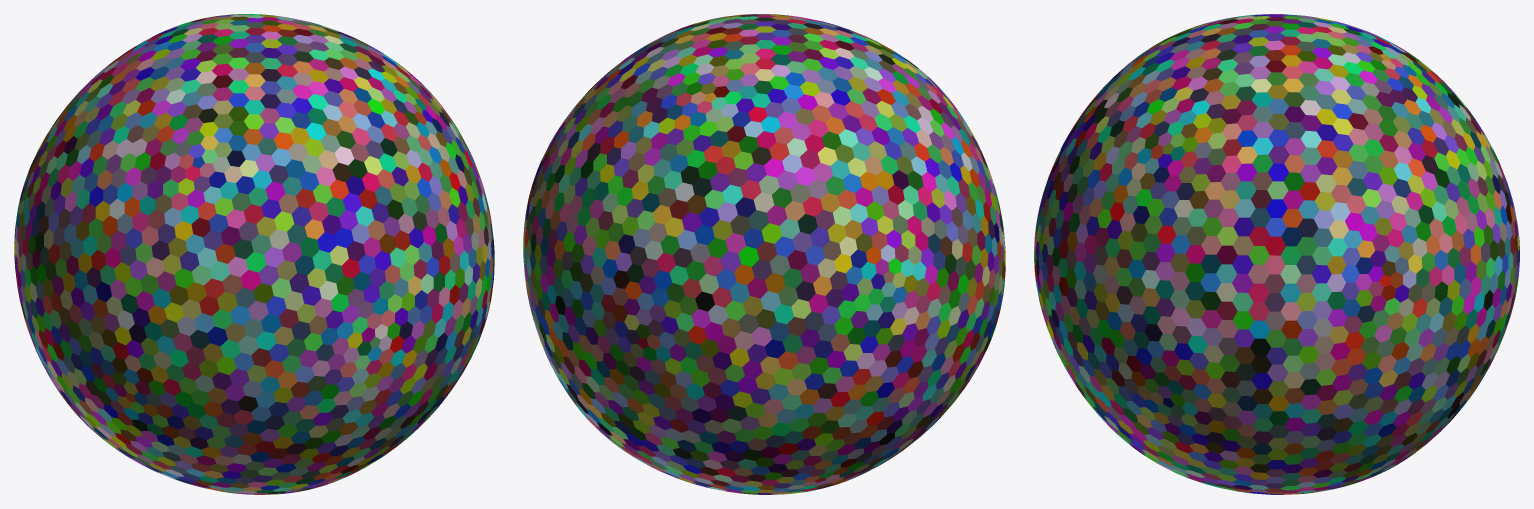
The model's file is Shield3UV(2).fbx.
3 renders of one model, left to right at view 1: azimuth 30°, elevation 25°; view 2: azimuth 150°, elevation 25°; view 3: azimuth 270°, elevation 25°, orthographic.
Parts seen in each view (by area): view 1: sphere1; view 2: sphere1; view 3: sphere1.
Part boxes in pixels (bbox=[...]): sphere1: bbox=[14, 14, 494, 494]; sphere1: bbox=[523, 14, 1005, 494]; sphere1: bbox=[1034, 14, 1519, 494].
Size of the model in its own units: 1.82 by 1.84 by 1.82.
